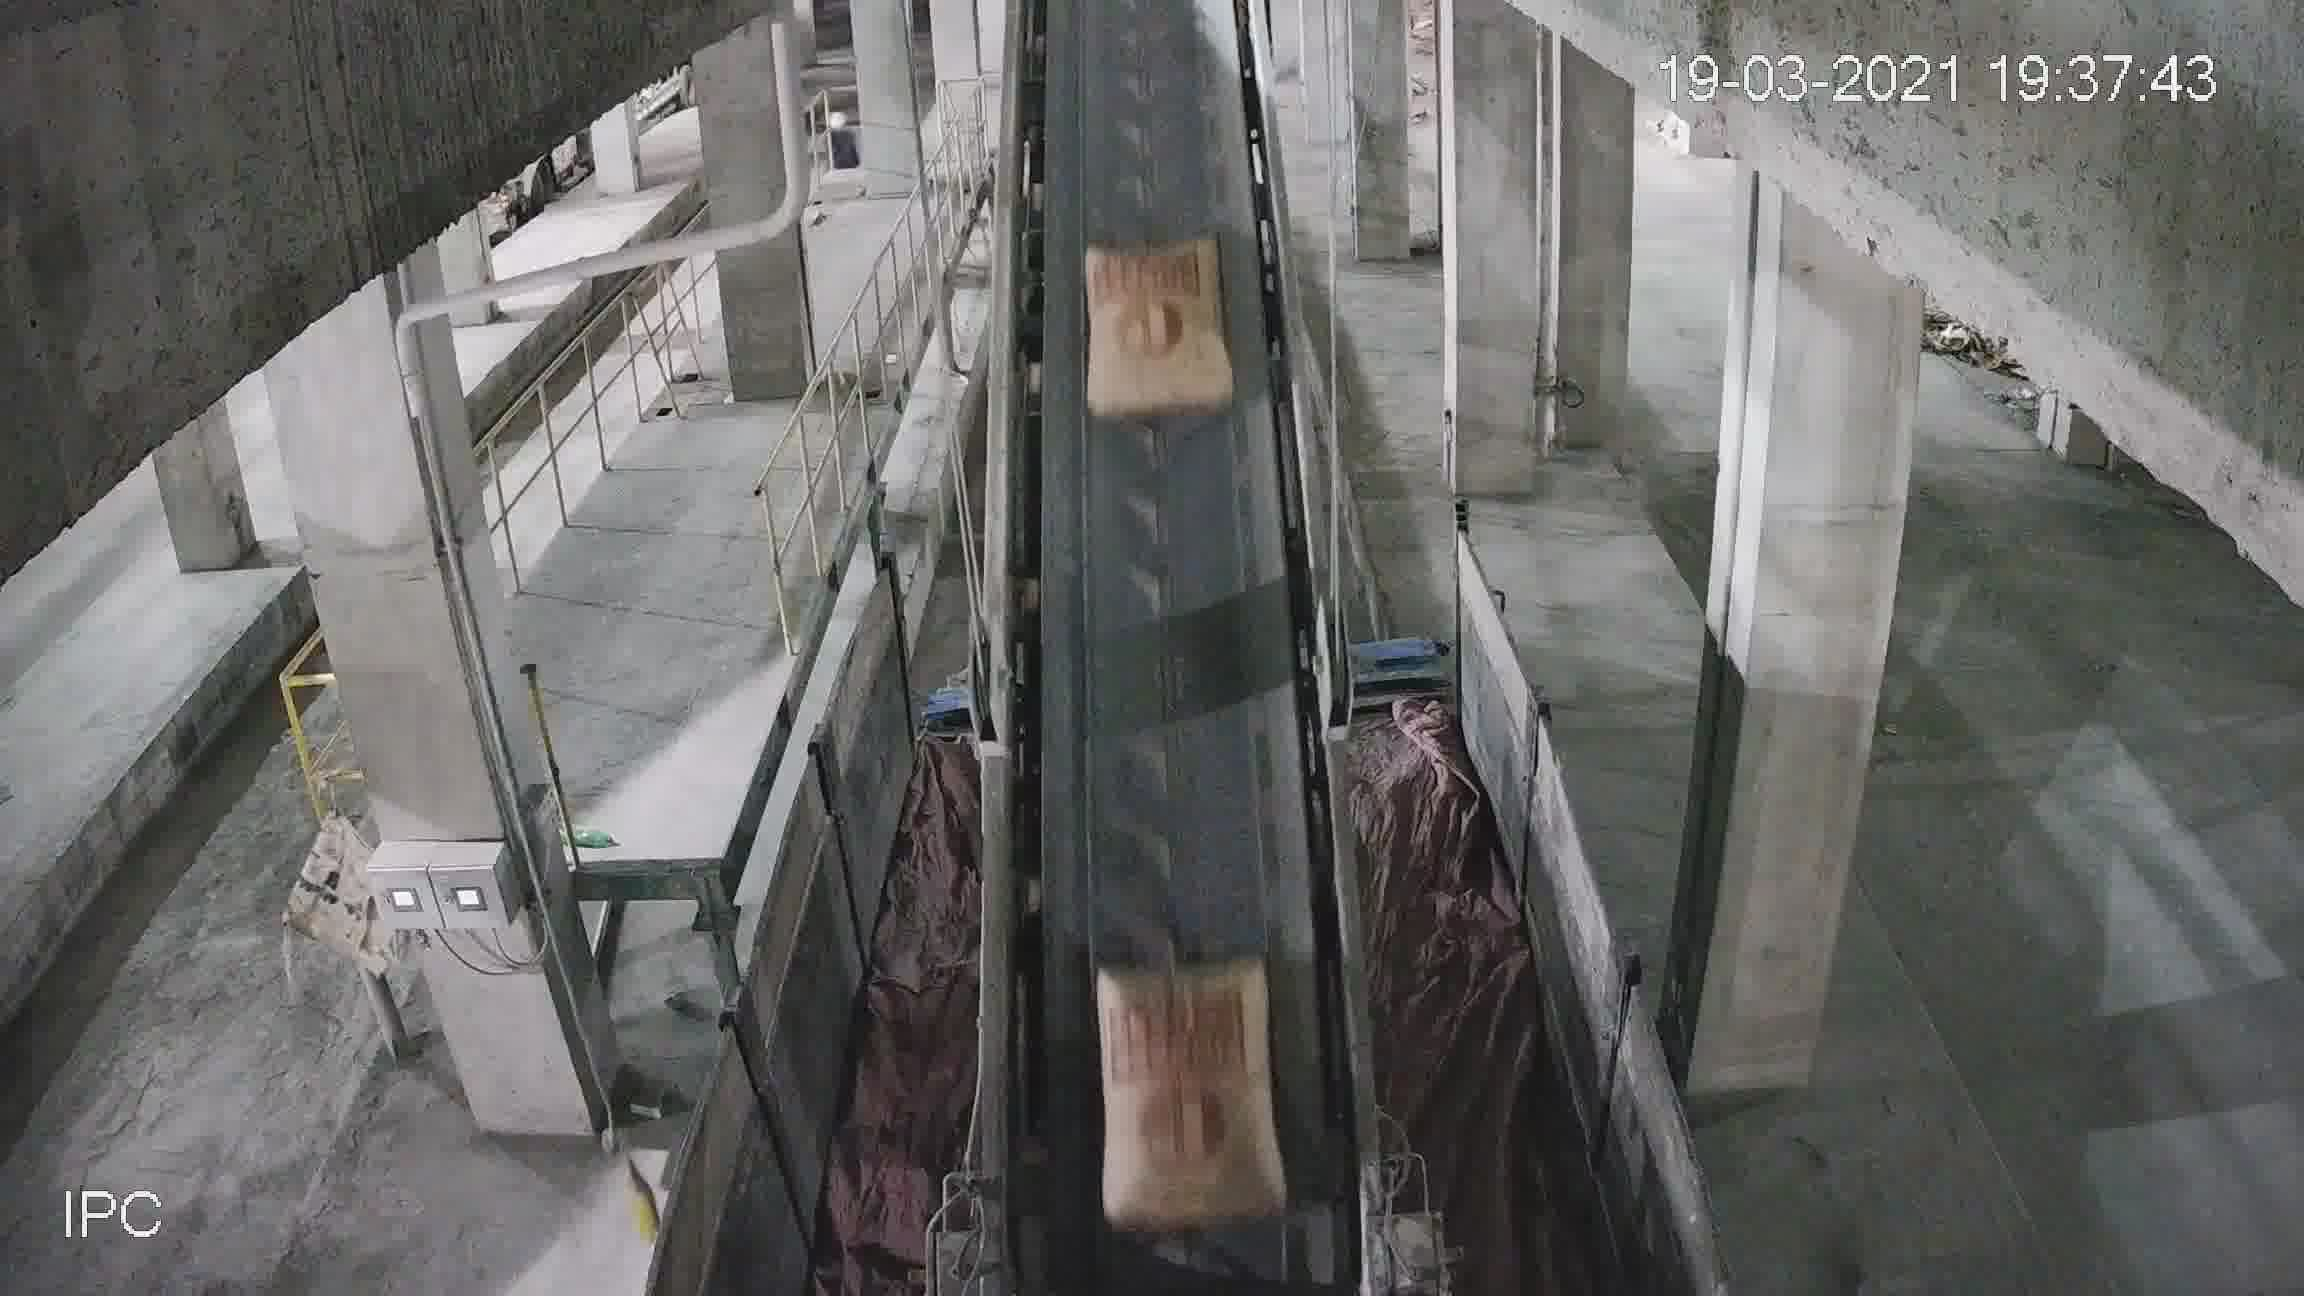bag: (1093, 949, 1274, 1196), (1087, 252, 1222, 415)
belt: (984, 44, 1351, 1087)
